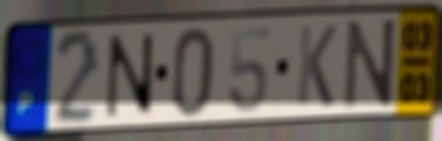0: (169, 24, 218, 120)
2: (51, 26, 106, 132)
5: (227, 24, 271, 114)
K: (294, 22, 340, 110)
N: (342, 15, 399, 113), (104, 31, 155, 121)
